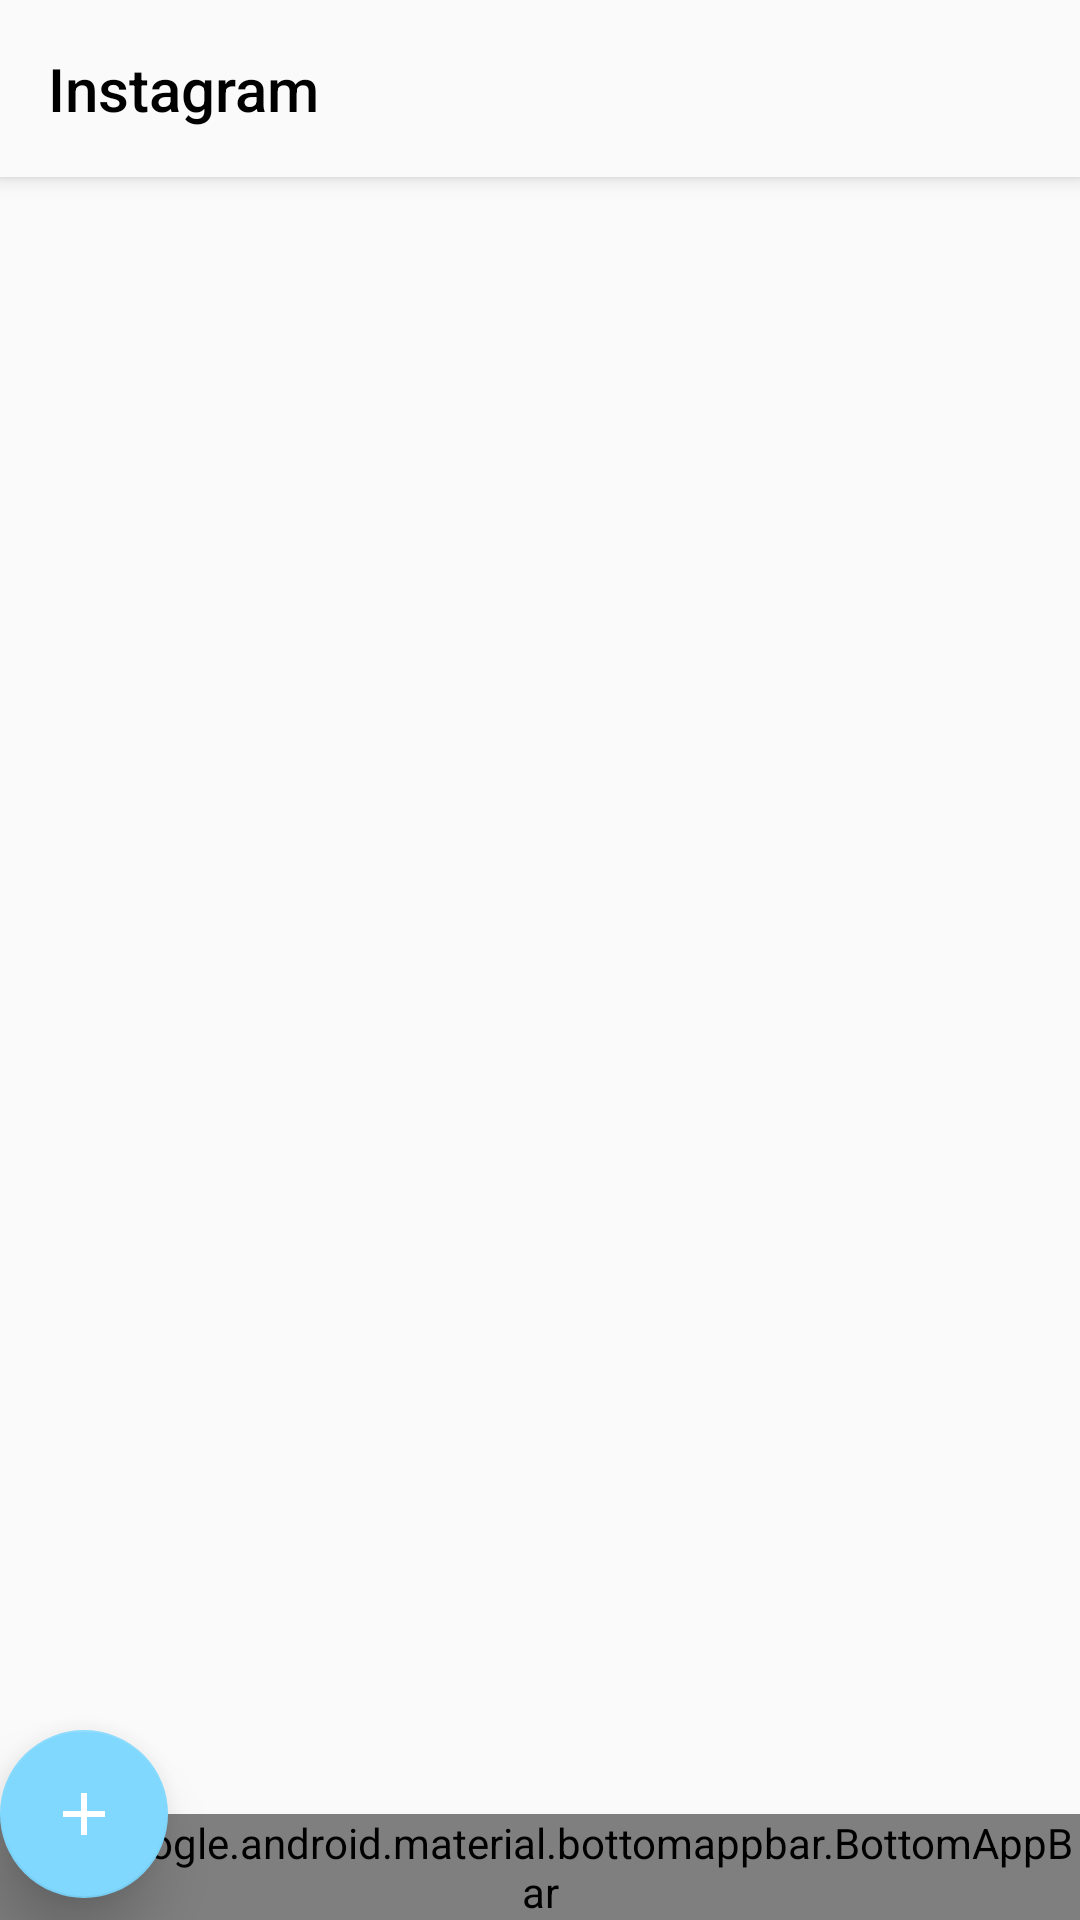

Screen size 1080px×1920px. Icon name, then its center in pixels as point (x, y):
plus: point (84, 1814)
